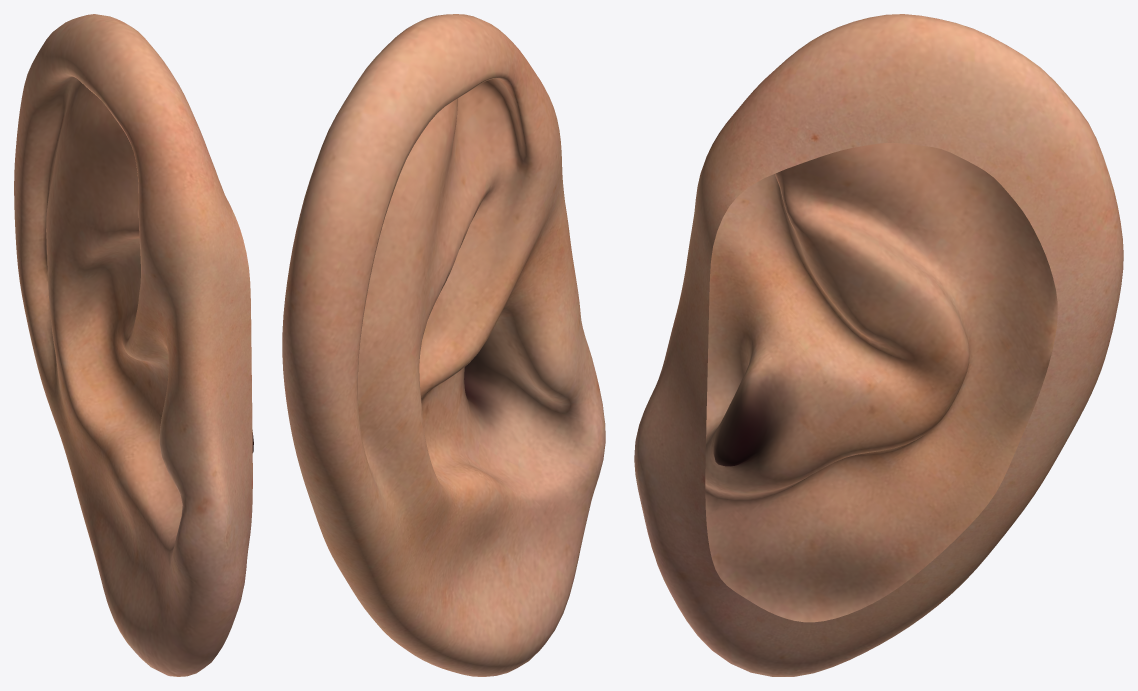
The model's file is telinga-luar.fbx.
3 renders of one model, left to right at view 1: azimuth 30°, elevation 25°; view 2: azimuth 150°, elevation 25°; view 3: azimuth 270°, elevation 25°, orthographic. The views are drawn at different scales.
Visible parts, largest first — view 1: Object_4.001; view 2: Object_4.001; view 3: Object_4.001.
Boxes of the visible parts, x1=… form: Object_4.001: x1=14, y1=14, x2=253, y2=676; Object_4.001: x1=282, y1=14, x2=605, y2=676; Object_4.001: x1=634, y1=14, x2=1123, y2=676.
Bounding box in the file's own units: 148 × 813 × 546.
Materials: 1 (1 with a texture image).
